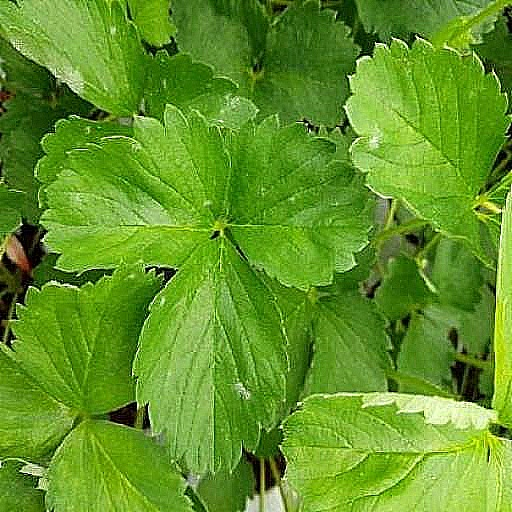Powdery Mildew Leaf: (220, 232, 382, 481), (280, 105, 474, 277), (0, 34, 170, 222), (347, 260, 508, 415), (363, 0, 511, 117), (253, 46, 373, 130)
